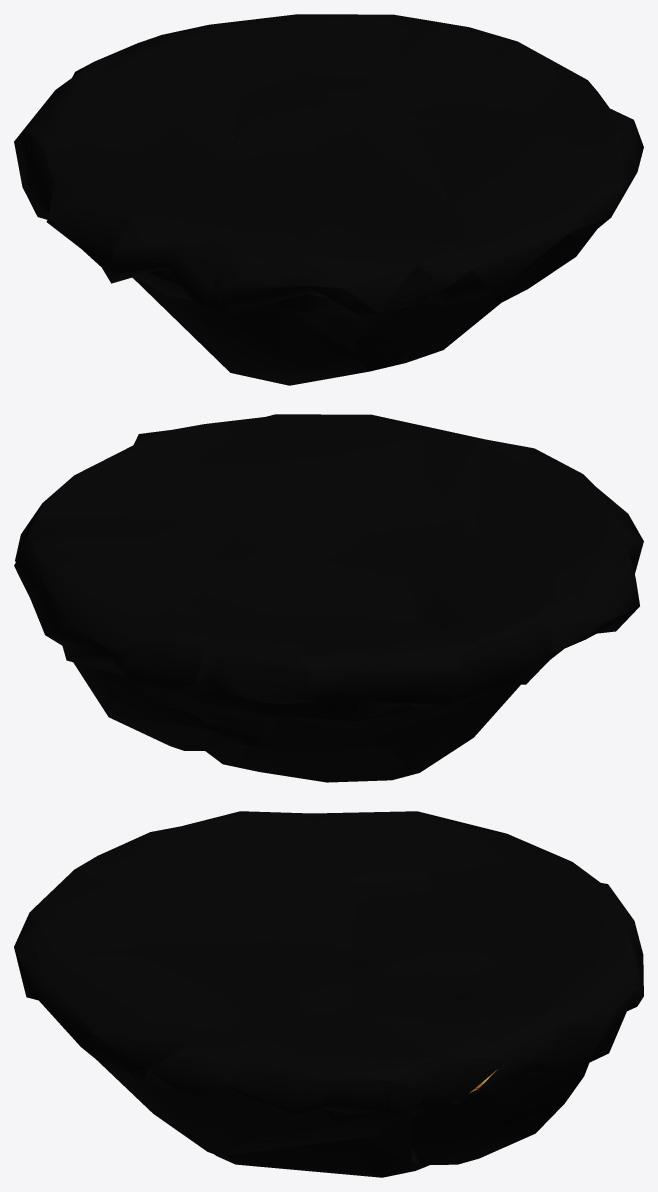
The model's file is s0_Floating_Island_01__1__01.glb.
3 renders of one model, top to bottom at view 1: azimuth 30°, elevation 25°; view 2: azimuth 150°, elevation 25°; view 3: azimuth 270°, elevation 25°, orthographic.
Parts seen in each view (by area): view 1: node_Floating_Island_01_Outline; view 2: node_Floating_Island_01_Outline; view 3: node_Floating_Island_01_Outline.
Boxes of the visible parts, x1,y1,x2,y2 form: node_Floating_Island_01_Outline: (14,14,643,385); node_Floating_Island_01_Outline: (14,414,643,782); node_Floating_Island_01_Outline: (14,811,643,1177).
Size of what is drawn, in the model's own units: 14.95 by 5.74 by 14.64.
Materials: 3 (2 with a texture image).
